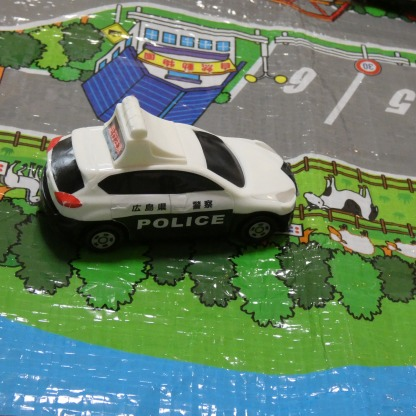car: (48, 94, 295, 258)
